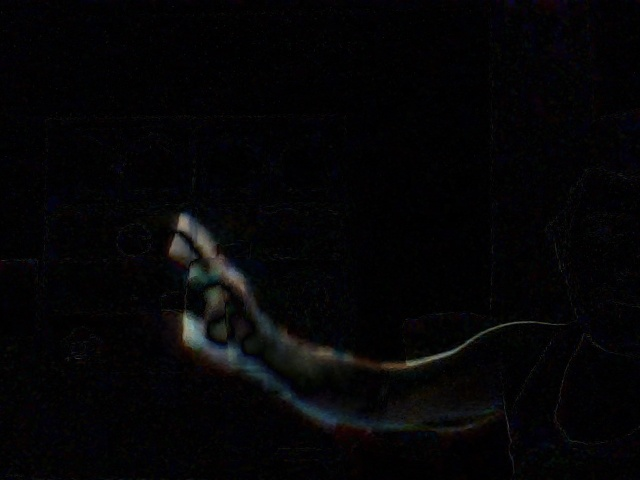hand_po: (156, 200, 269, 373)
